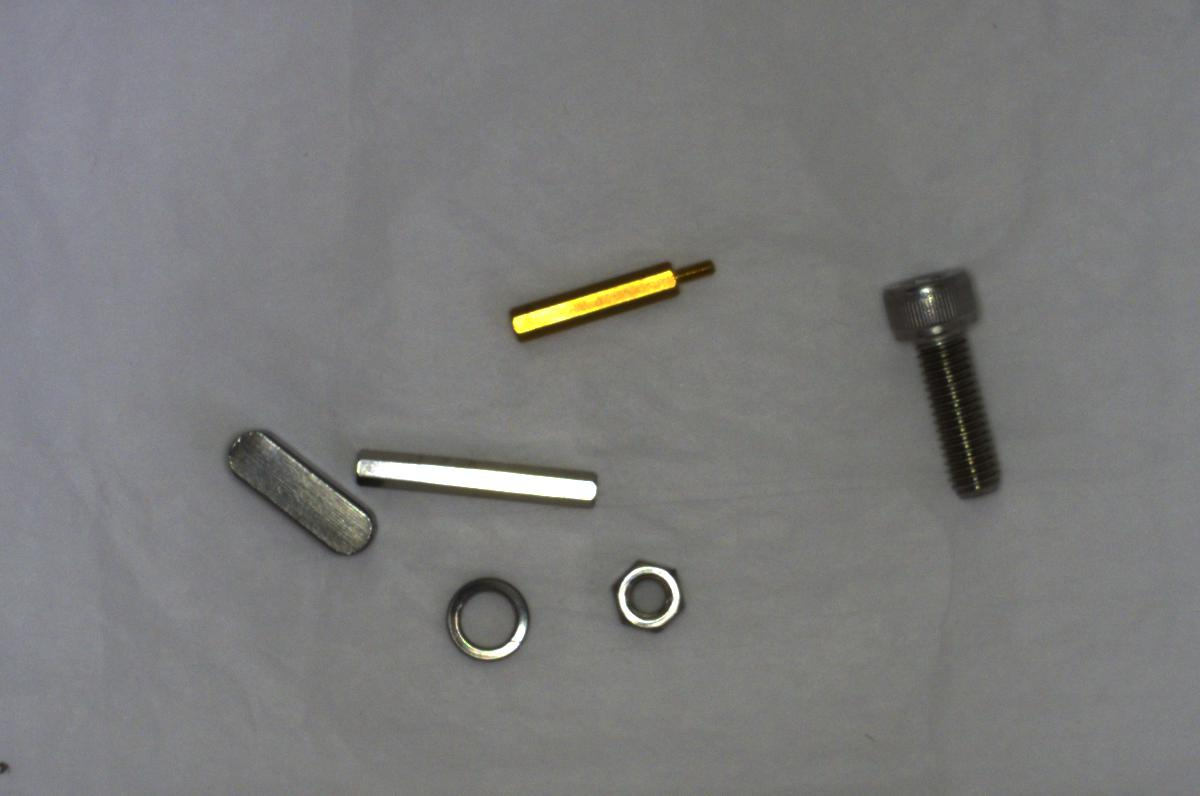Double hexagonal column: (353, 443, 606, 520)
Hexagon nut: (602, 548, 691, 636)
Hexagon pillar: (498, 245, 721, 345)
Hexagon screw: (873, 253, 1006, 508)
Keybar: (230, 423, 381, 560)
Spring washer: (434, 554, 537, 672)
